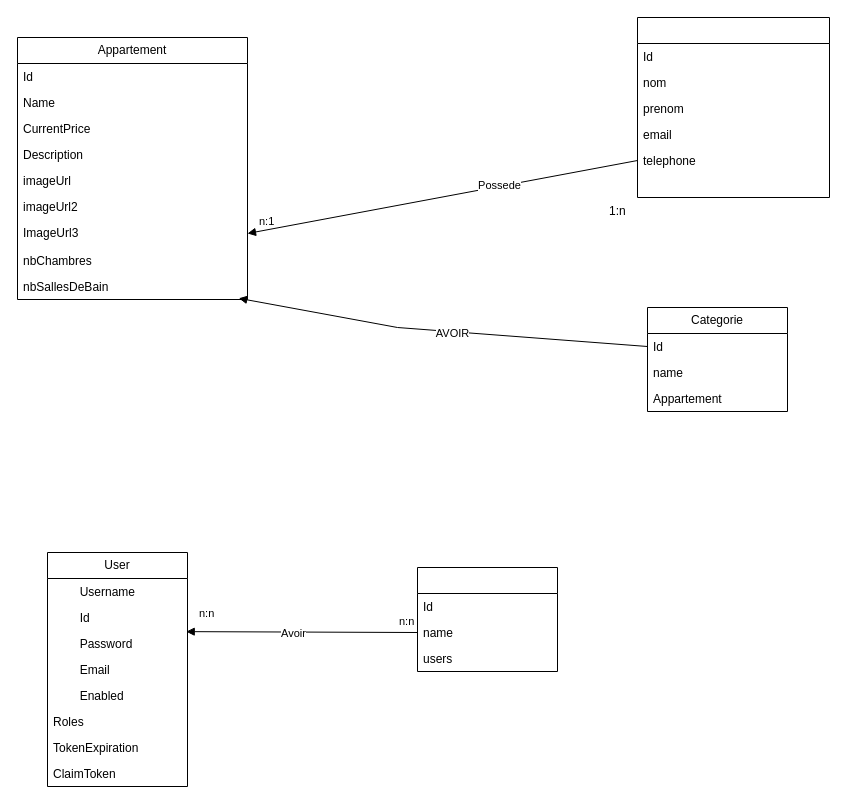
Some shapes in this 847 by 807 pixel diagram are drawn without their labels. The shapes that lost their labels are listed below. From the top down, each one's box as (x1, y1, x2, y2) in pixels, then its label:
(636, 16, 830, 198): Bailleur
(416, 566, 558, 672): Role
